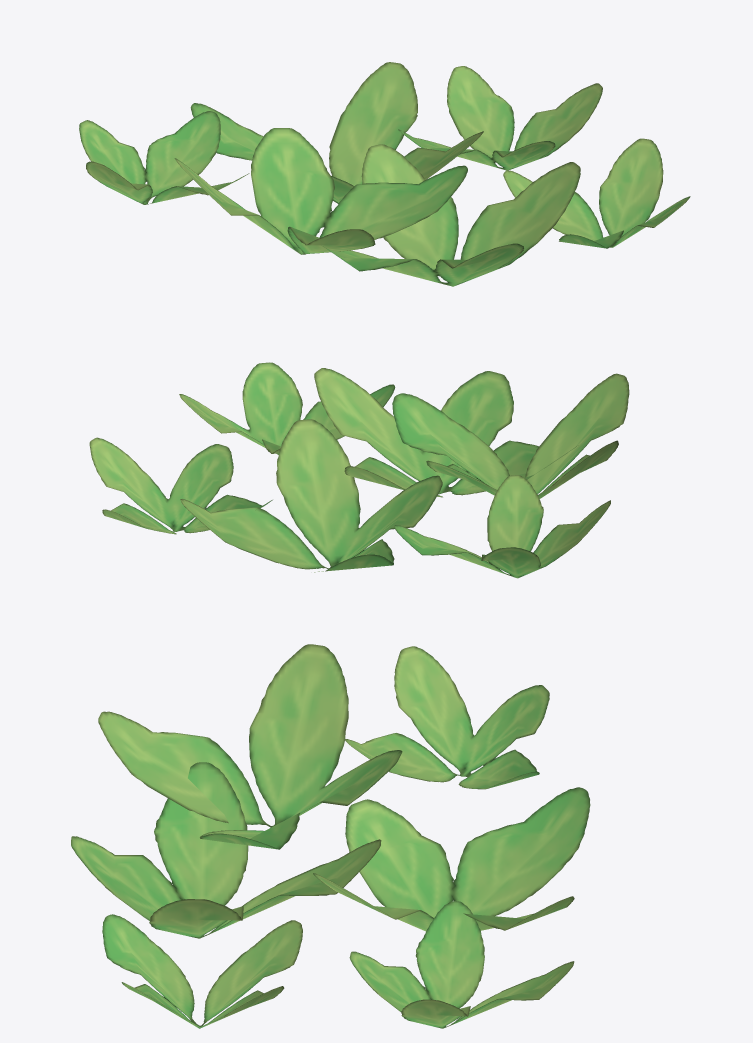
Rendered from LeafSetE_12.fbx.
3 views of the same model, one above another, from view 1: azimuth 30°, elevation 25°; view 2: azimuth 150°, elevation 25°; view 3: azimuth 270°, elevation 25° (orthographic). The views are drawn at different scales.
Parts seen in each view (by area): view 1: LeafSetE_12; view 2: LeafSetE_12; view 3: LeafSetE_12.
Part boxes in pixels (x1,y1,x2,y2): LeafSetE_12: (79,62,690,286); LeafSetE_12: (89,362,629,578); LeafSetE_12: (71,644,590,1028).
Bounding box in the file's own units: 0.7103 × 0.1775 × 0.6513.
